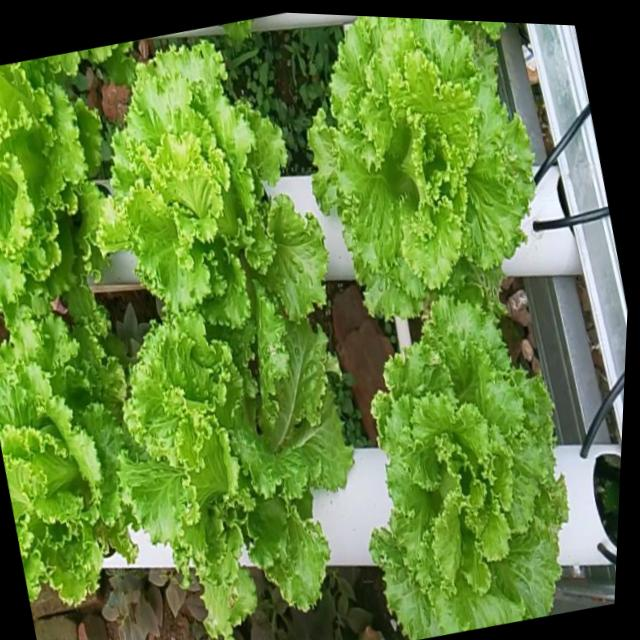Mature: (117, 312, 351, 638), (93, 34, 325, 353), (367, 290, 566, 640), (306, 16, 533, 316), (0, 306, 133, 601), (0, 58, 101, 324)
